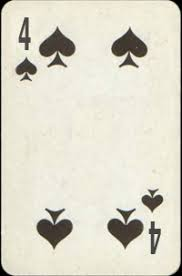four of spades: (1, 1, 181, 275)
